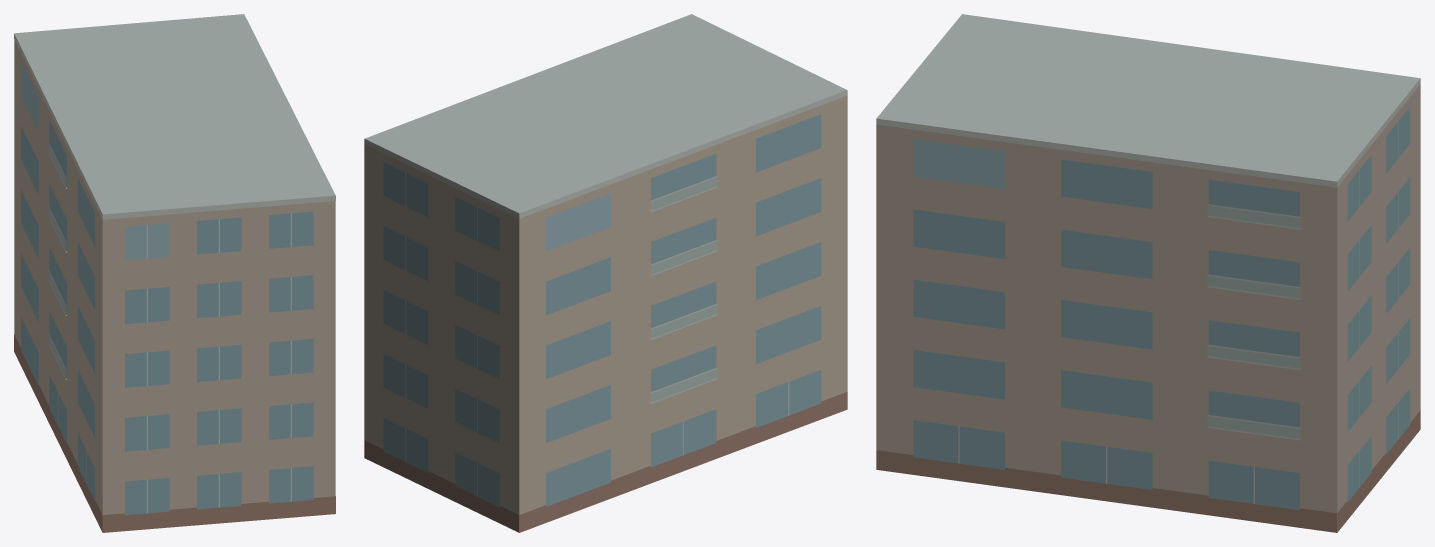
The model's file is survey-upis-32813523.glb.
3 views of the same model, side by side, from view 1: azimuth 30°, elevation 25°; view 2: azimuth 150°, elevation 25°; view 3: azimuth 270°, elevation 25° (orthographic). The views are drawn at different scales.
Parts seen in each view (by area): view 1: survey-upis-32813523.tmp; view 2: survey-upis-32813523.tmp; view 3: survey-upis-32813523.tmp.
Part boxes in pixels (bbox=[...]): survey-upis-32813523.tmp: bbox=[14, 14, 335, 532]; survey-upis-32813523.tmp: bbox=[364, 14, 847, 532]; survey-upis-32813523.tmp: bbox=[876, 14, 1420, 532].
Bounding box in the file's own units: 14.75 × 14.4 × 20.23.
